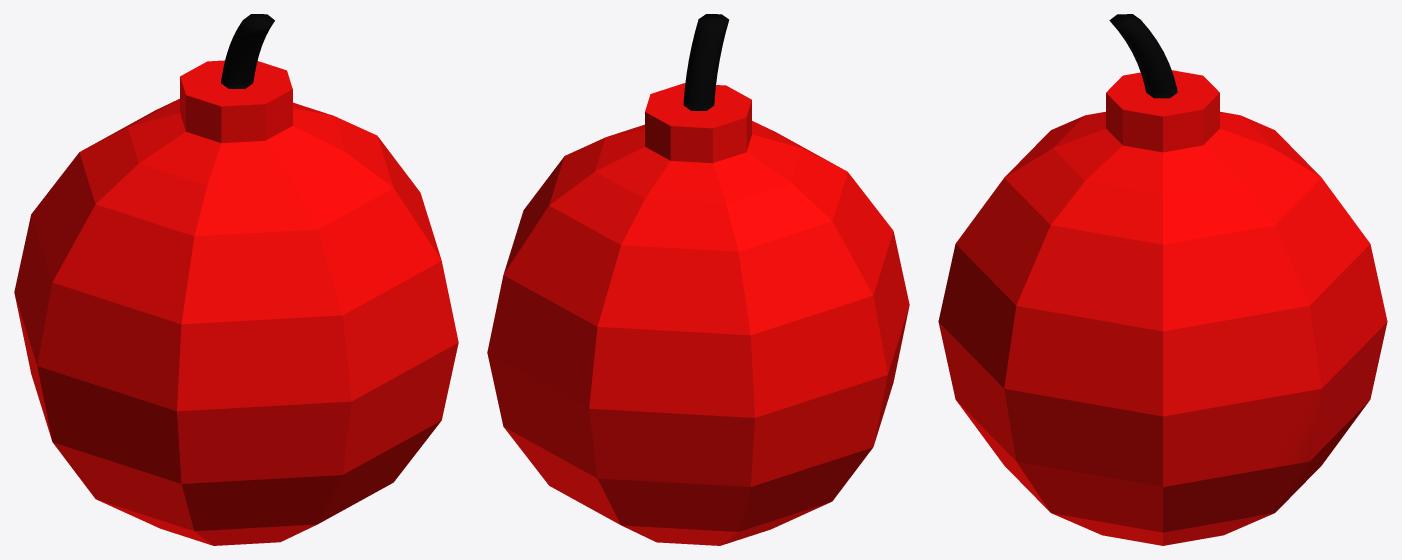
The model's file is surprise_clown_bomb.fbx.
3 renders of one model, left to right at view 1: azimuth 30°, elevation 25°; view 2: azimuth 150°, elevation 25°; view 3: azimuth 270°, elevation 25°, orthographic. The views are drawn at different scales.
Parts seen in each view (by area): view 1: Sphere; view 2: Sphere; view 3: Sphere.
Part boxes in pixels (x1,y1,x2,y2): Sphere: (14,14,458,545); Sphere: (487,14,909,545); Sphere: (938,14,1387,545).
Bounding box in the file's own units: 200 × 249 × 200.
1 material, 1 textured.
